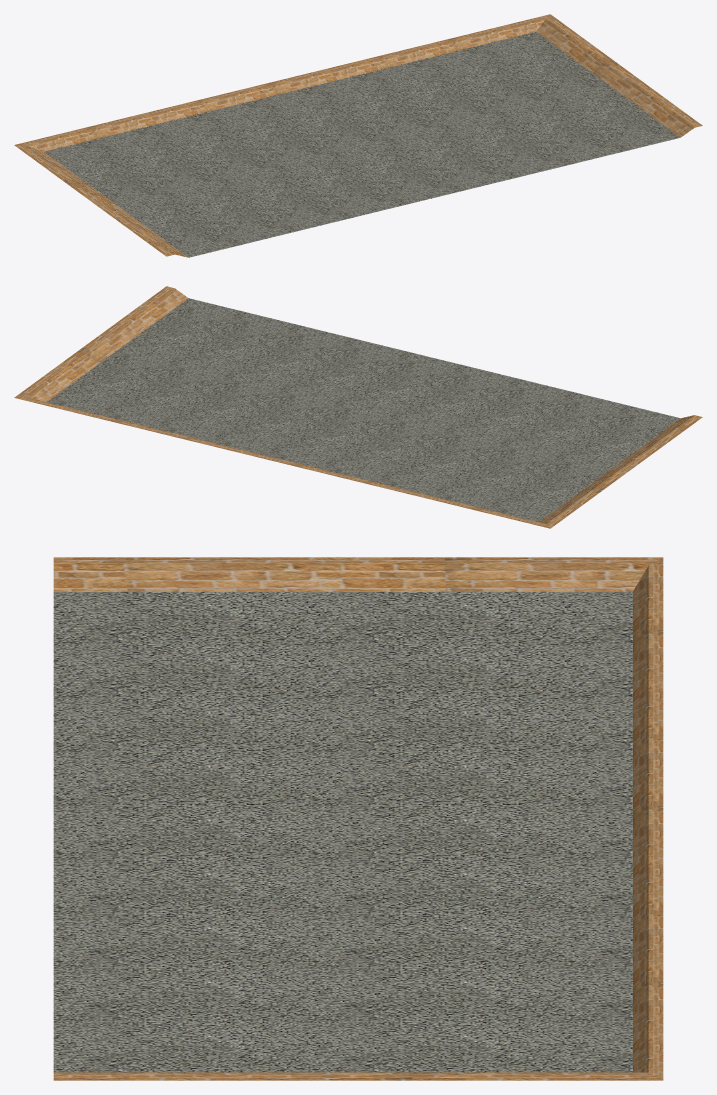
File: Building_02_Roof.fbx
3 renders of one model, top to bottom at view 1: azimuth 30°, elevation 25°; view 2: azimuth 150°, elevation 25°; view 3: azimuth 270°, elevation 25°, orthographic. The views are drawn at different scales.
Visible parts, largest first — view 1: Building_02_Roof; view 2: Building_02_Roof; view 3: Building_02_Roof.
Boxes of the visible parts, box(x1,y1,x2,y2) form: Building_02_Roof: box(14, 14, 702, 257); Building_02_Roof: box(14, 286, 702, 528); Building_02_Roof: box(53, 557, 663, 1080).
Bounding box in the file's own units: 1438 × 16.74 × 708.
